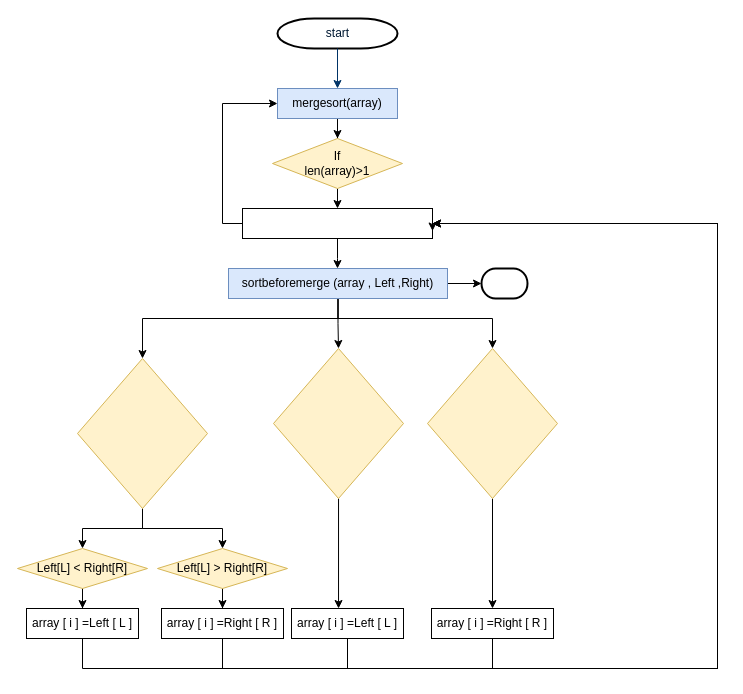
This 743x694 diagram has some shape labels left out. Each missing label, with the box of its shape:
end: (480, 267, 528, 299)
Left = array [ 0 : mid ] Right = array [ mid : len(array) ]: (242, 208, 432, 238)
while L < len(Left): (272, 348, 404, 498)
while L < len(Left) and R < len(Right): (76, 358, 208, 508)
while R < len(Right): (426, 348, 558, 498)
